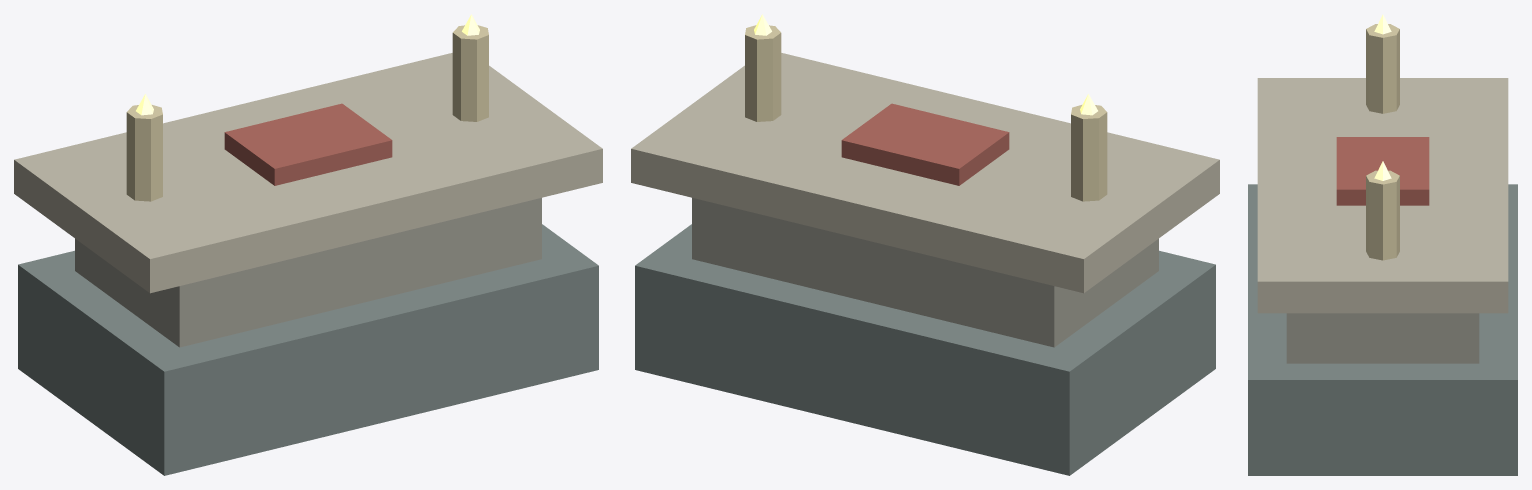
Rendered from altar.glb.
The picture shows the model from 3 angles, left to right: view 1: azimuth 30°, elevation 25°; view 2: azimuth 150°, elevation 25°; view 3: azimuth 270°, elevation 25°; orthographic projection. The views are drawn at different scales.
Visible parts, largest first — view 1: TV_altar; view 2: TV_altar; view 3: TV_altar.
Boxes of the visible parts, left/top/right/bottom form: TV_altar: left=14, top=14, right=602, bottom=475; TV_altar: left=631, top=14, right=1219, bottom=475; TV_altar: left=1248, top=14, right=1517, bottom=475.
Bounding box in the file's own units: 2.5 × 1.66 × 1.4.
